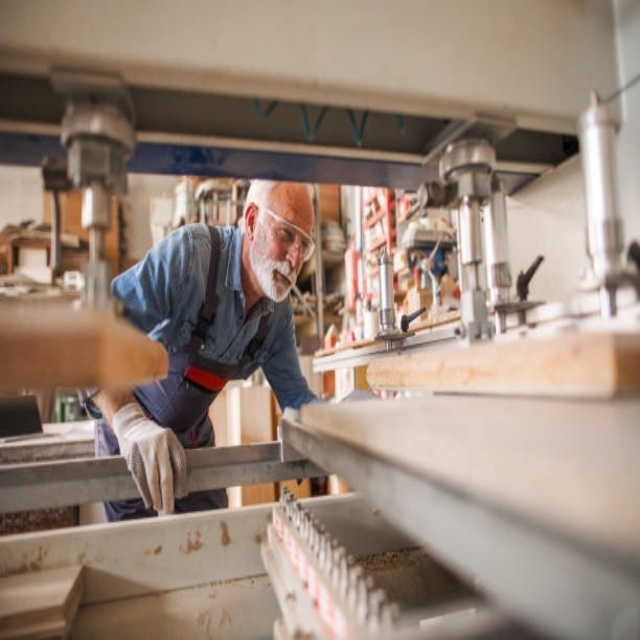Gafas: (258, 203, 315, 263)
Guantes: (112, 397, 192, 515)
Sin_mascara: (264, 267, 297, 293)
